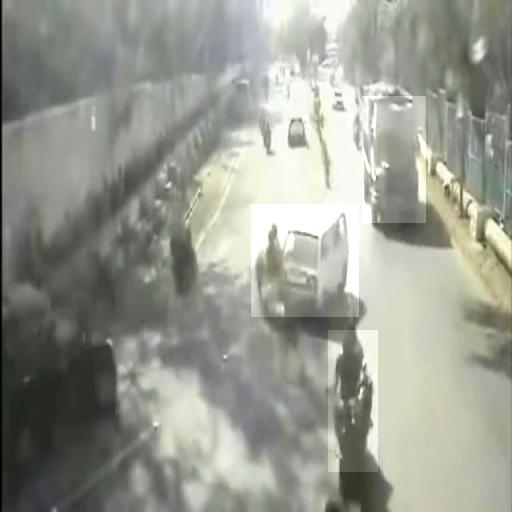小汽车: (362, 96, 426, 223)
小汽车撞自行车: (252, 204, 360, 317)
自行车: (328, 330, 378, 472)
